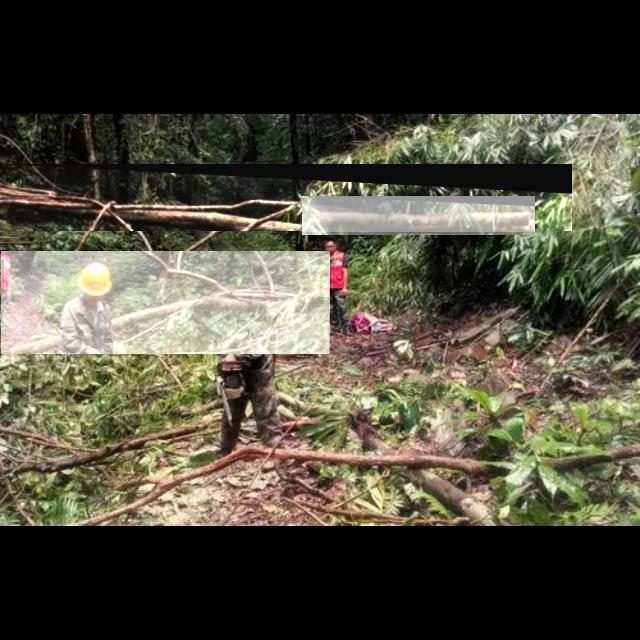fallen_tree: (1, 164, 573, 232), (1, 251, 331, 355), (302, 196, 536, 236)
